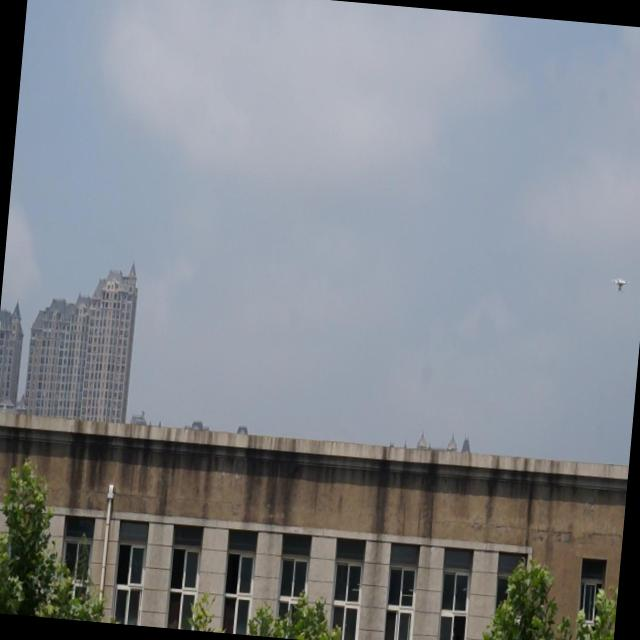drone: (610, 272, 630, 292)
